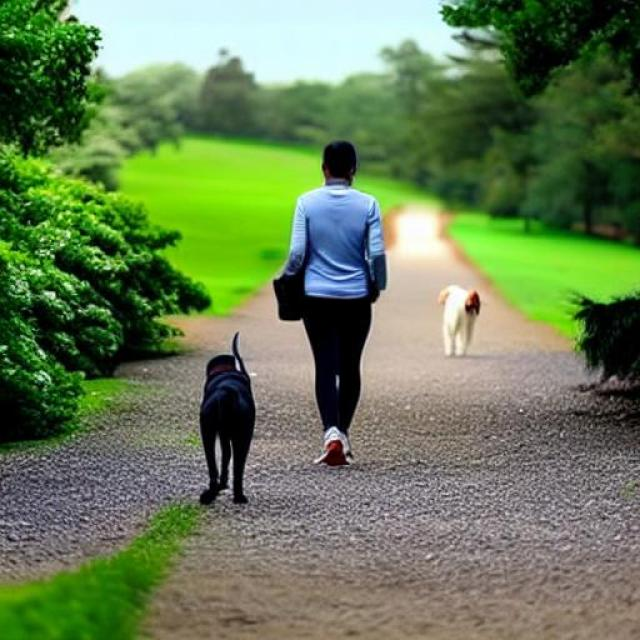Dog: (438, 284, 481, 357)
Unleashed_Dog: (201, 330, 371, 506)
